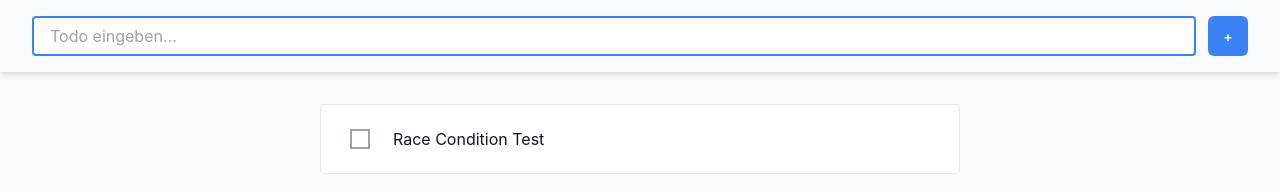
Test: FEAT-4 – Todo bearbeiten (Inline-Editing) › Enter dann Blur speichert nur einmal (Race Condition)
Step 1. Double-click the button "Race Condition Test" → (469, 139), box [393, 129, 544, 149]
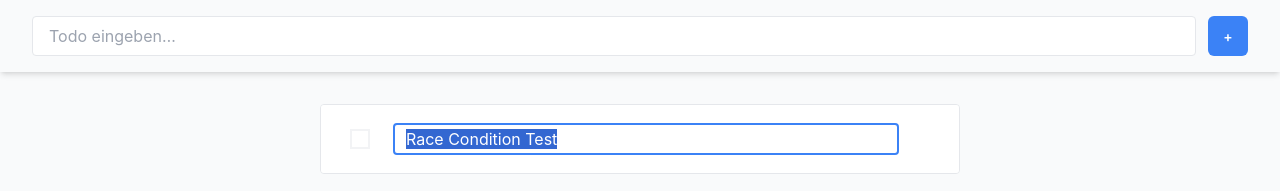
Step 2. Replace the text in the field named "todo-titel bearbeiten" with "Einmalig Gespeichert" → (646, 139), box [393, 123, 899, 155]
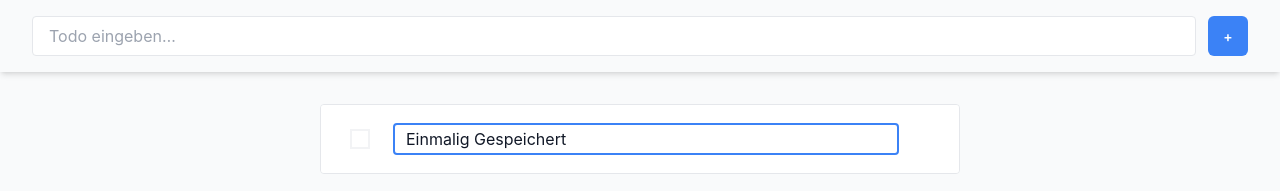
Step 3. Type keys "[Enter]"
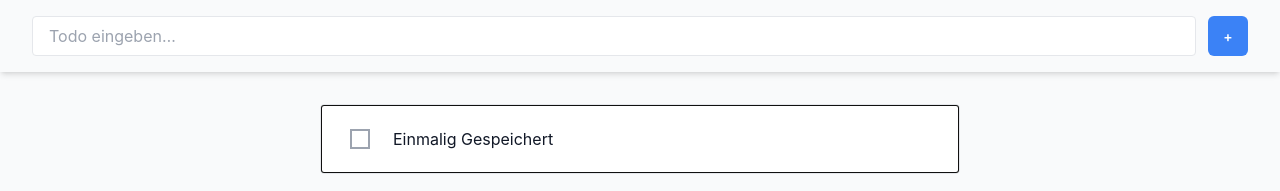
Expected: the button "Einmalig Gespeichert" is shown, [393, 129, 553, 149]
Expected: the number of buttons "Einmalig Gespeichert" is 1, [393, 129, 553, 149]
